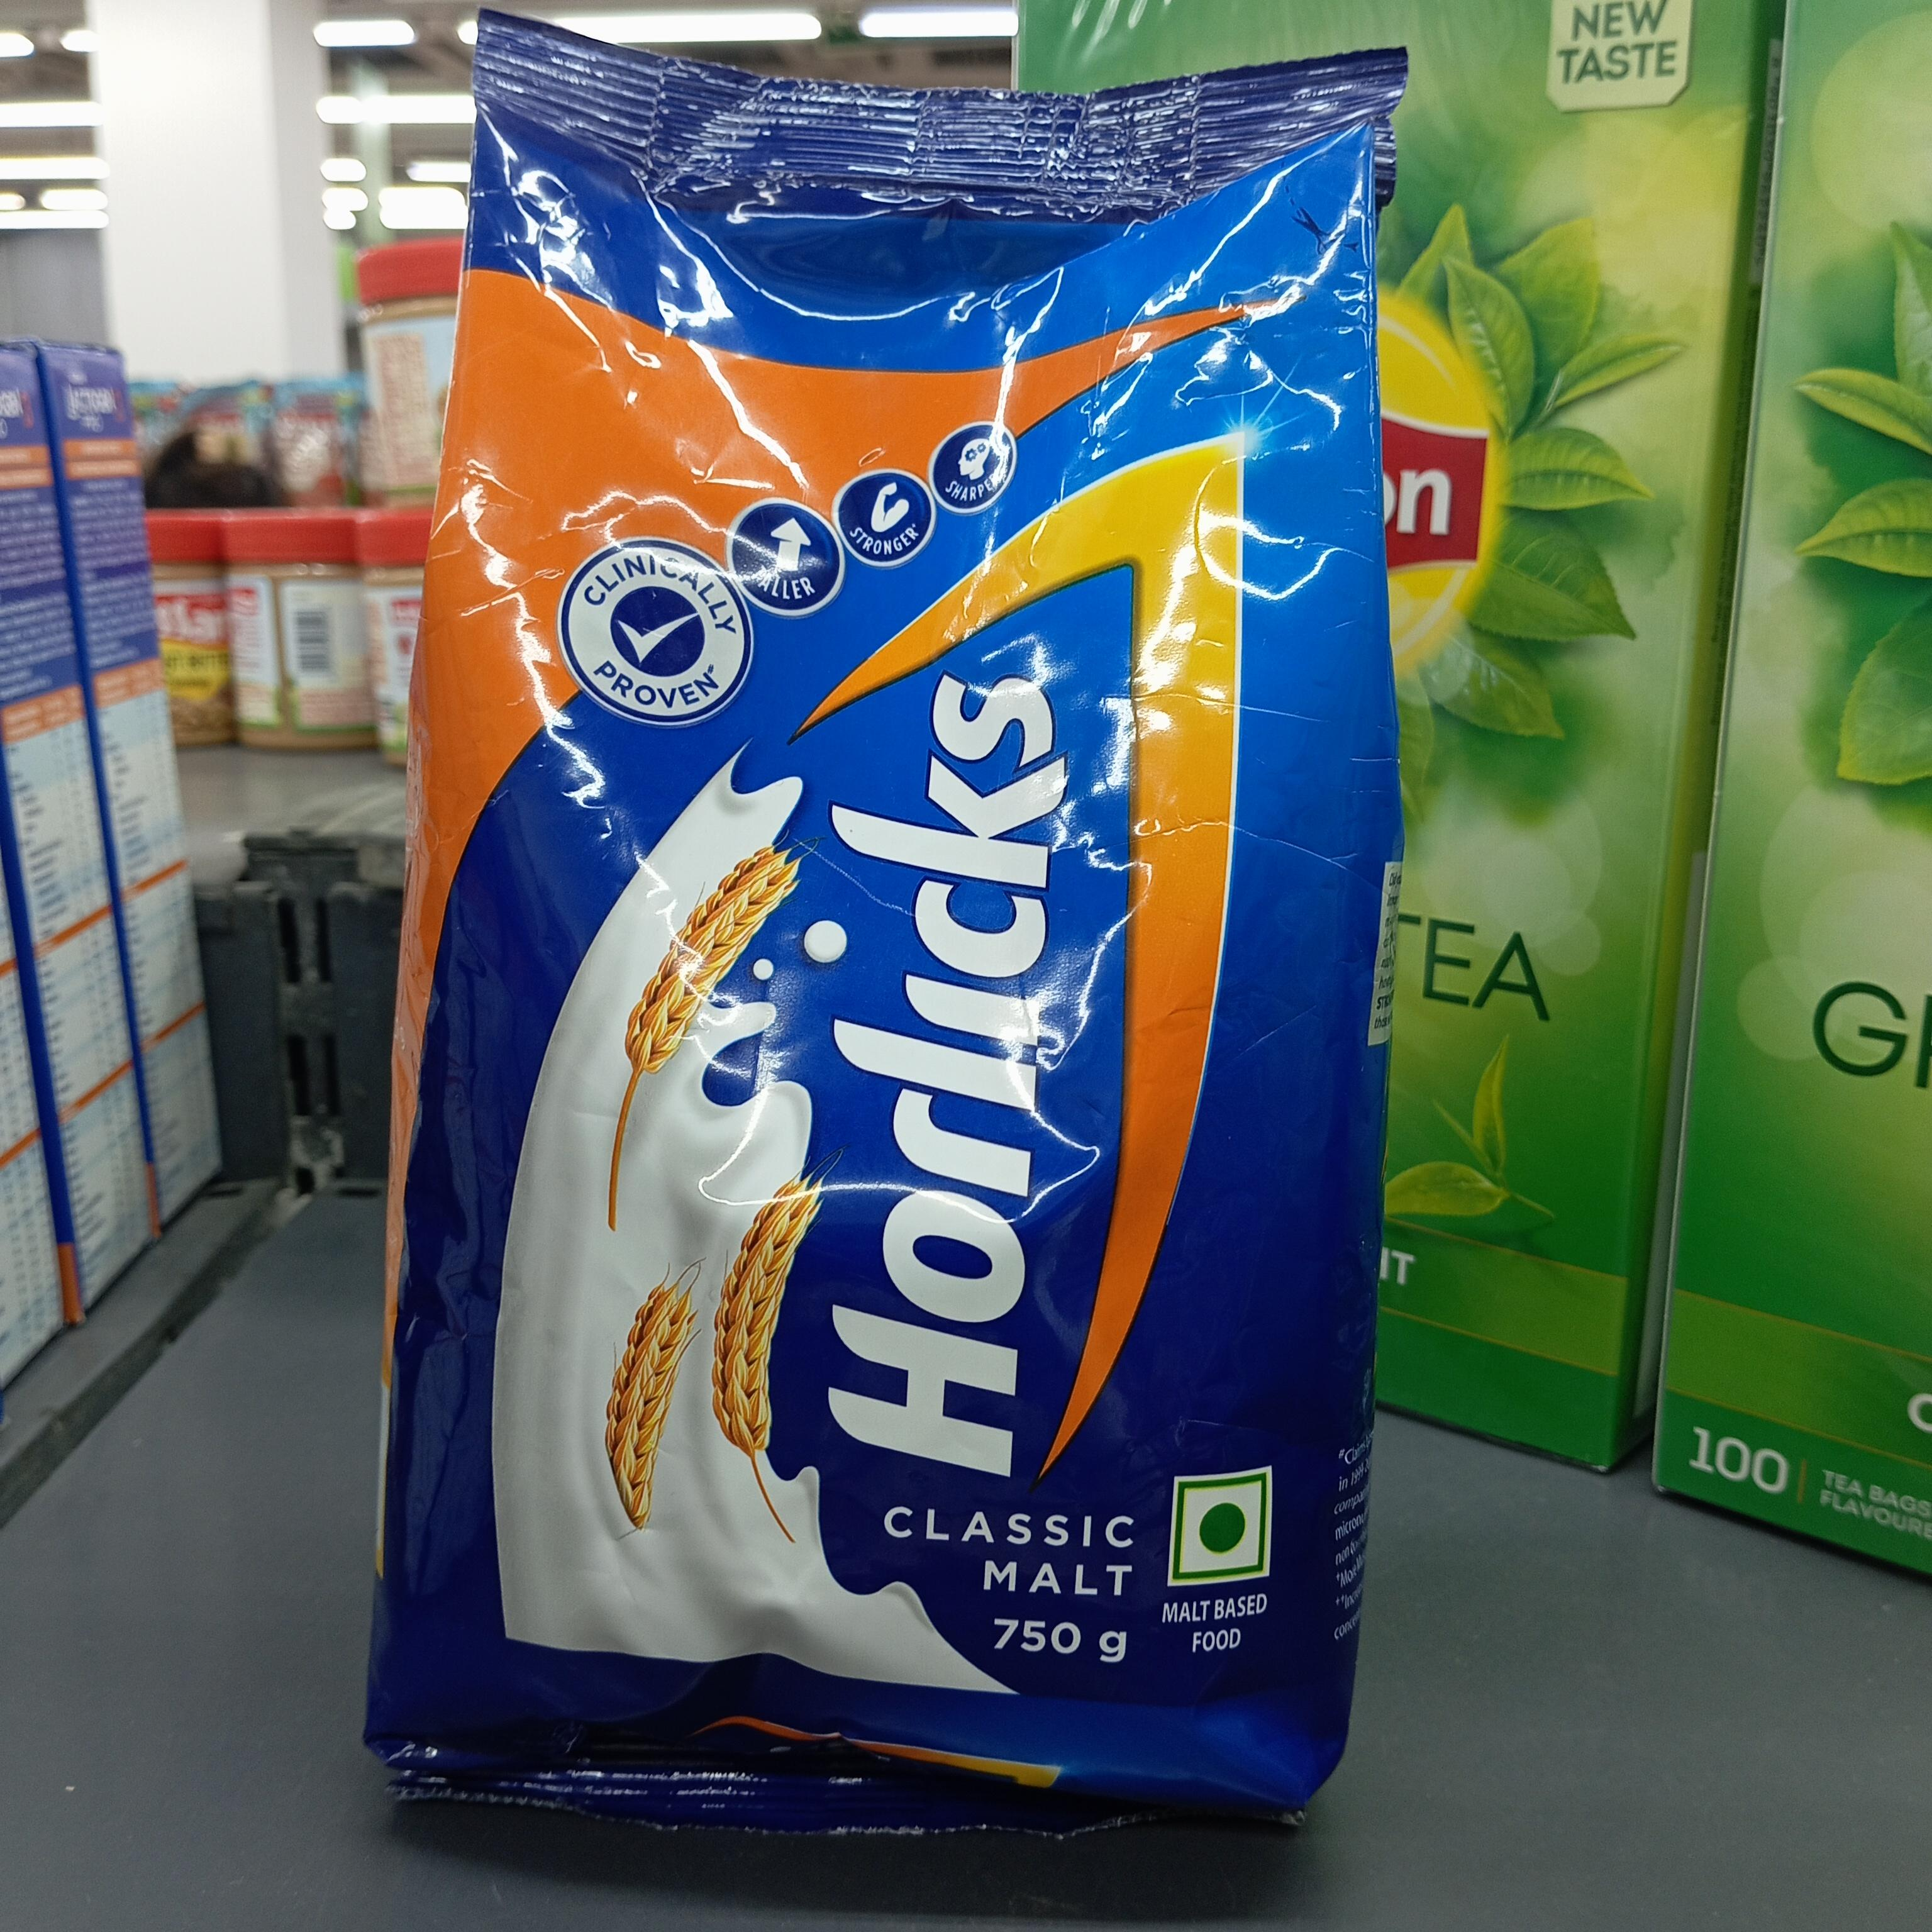HORLICK_CLASSIC_MALT_750_G_POUCH: (441, 25, 1384, 1824)
